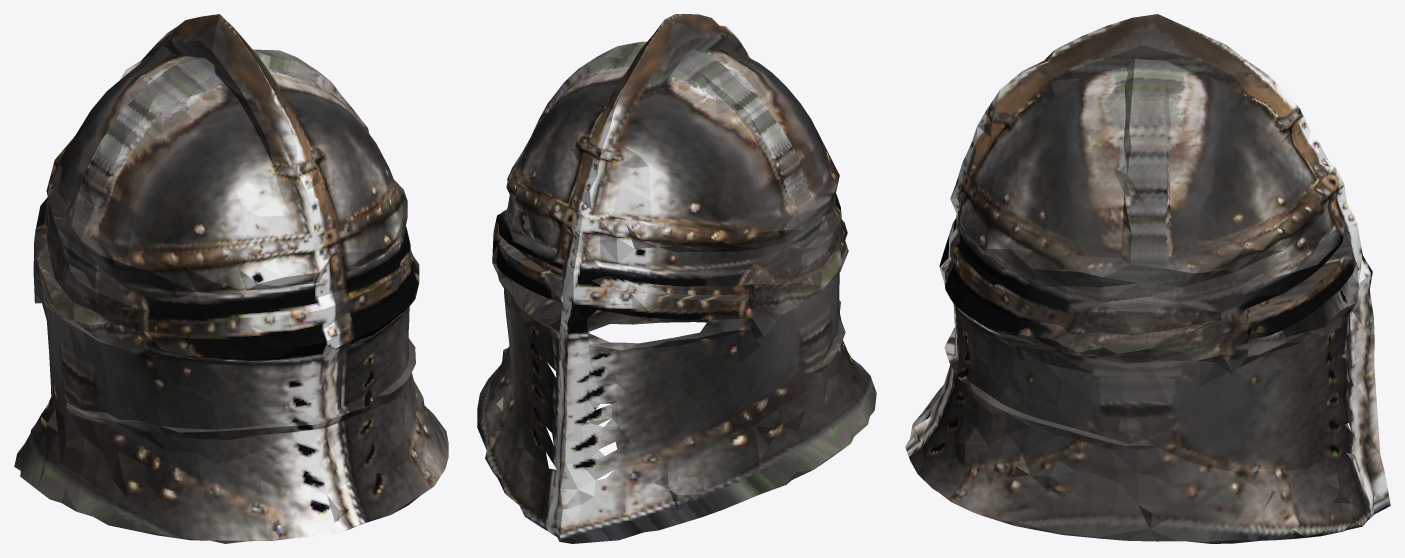
Rendered from h_greathelm.glb.
The picture shows the model from 3 angles, left to right: view 1: azimuth 30°, elevation 25°; view 2: azimuth 150°, elevation 25°; view 3: azimuth 270°, elevation 25°; orthographic projection. The views are drawn at different scales.
Parts seen in each view (by area): view 1: geometry_0; view 2: geometry_0; view 3: geometry_0.
Boxes of the visible parts, x1,y1,x2,y2 form: geometry_0: [14, 14, 448, 543]; geometry_0: [477, 14, 876, 543]; geometry_0: [905, 14, 1390, 543].
Size of the model in its own units: 0.2871 by 0.36 by 0.3192.
Materials: 1 (1 with a texture image).
